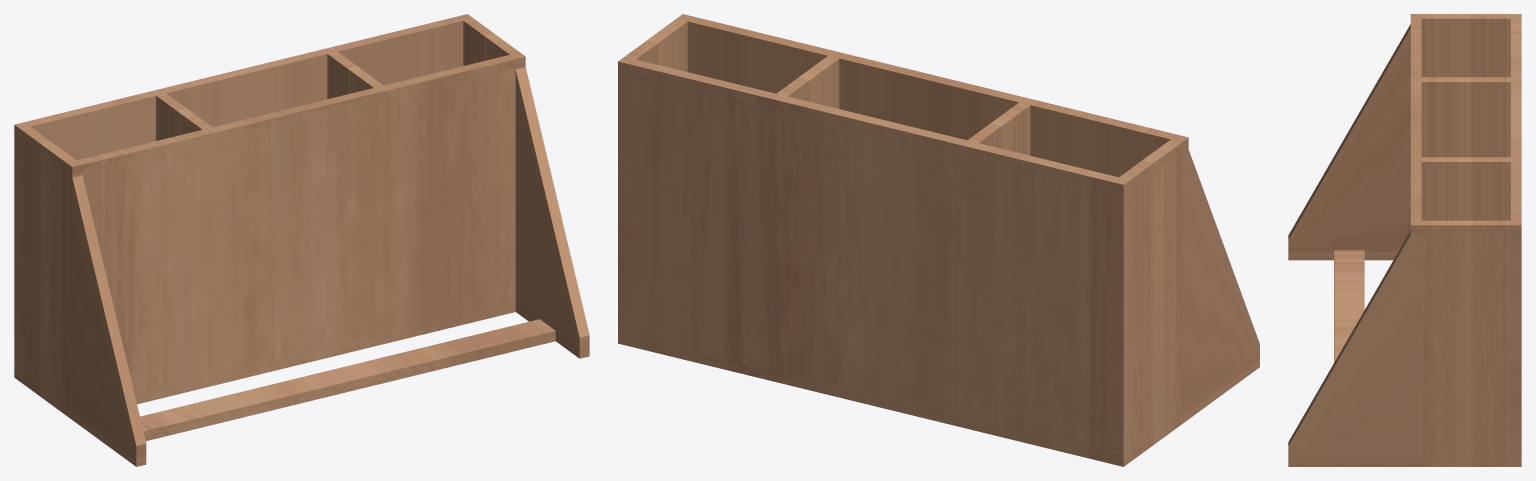
File: bk_wall_shelf.obj
The picture shows the model from 3 angles, left to right: view 1: azimuth 30°, elevation 25°; view 2: azimuth 150°, elevation 25°; view 3: azimuth 270°, elevation 25°; orthographic projection. The views are drawn at different scales.
Size of the model in its own units: 1.87 by 1 by 0.8749.
Materials: 1 (1 with a texture image).
